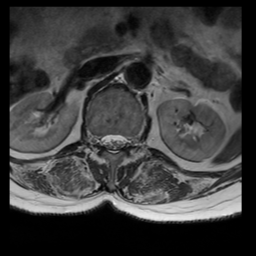CCS_normal: (109, 125, 117, 160)
LFS_normal: (126, 128, 134, 154)
LLS_normal: (117, 126, 126, 155)
RFS_normal: (92, 125, 101, 152)
RLS_normal: (101, 127, 109, 155)
